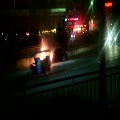fire: (39, 46, 53, 60)
